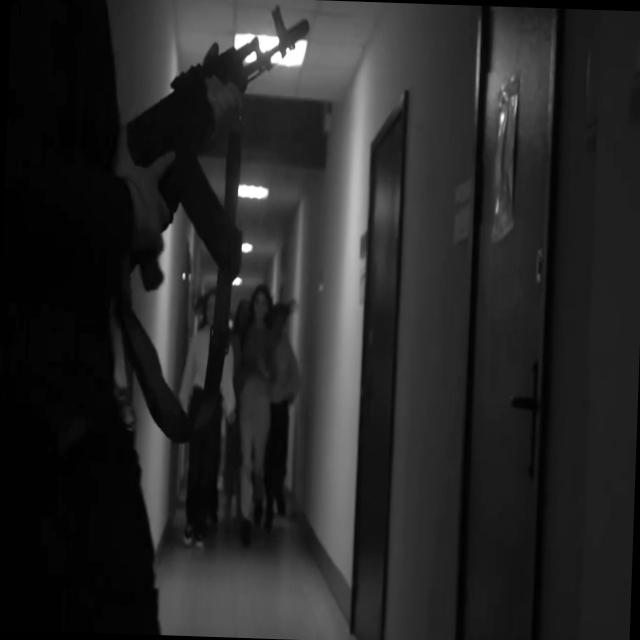gun: (93, 0, 312, 295)
person: (242, 277, 282, 354)
